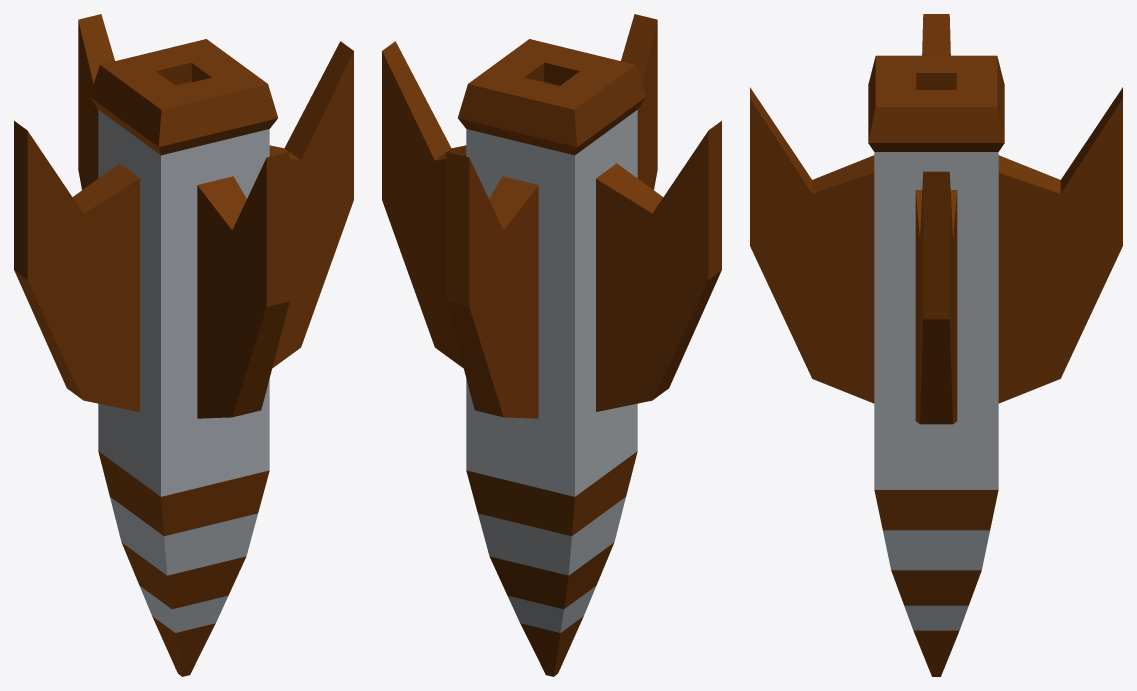
File: HumanRocket.fbx
The picture shows the model from 3 angles, left to right: view 1: azimuth 30°, elevation 25°; view 2: azimuth 150°, elevation 25°; view 3: azimuth 270°, elevation 25°; orthographic projection.
Visible parts, largest first — view 1: Rocket; view 2: Rocket; view 3: Rocket.
Boxes of the visible parts, x1,y1,x2,y2 form: Rocket: [14, 14, 353, 676]; Rocket: [382, 14, 721, 676]; Rocket: [750, 14, 1122, 676].
Bounding box in the file's own units: 300 × 527 × 300.
